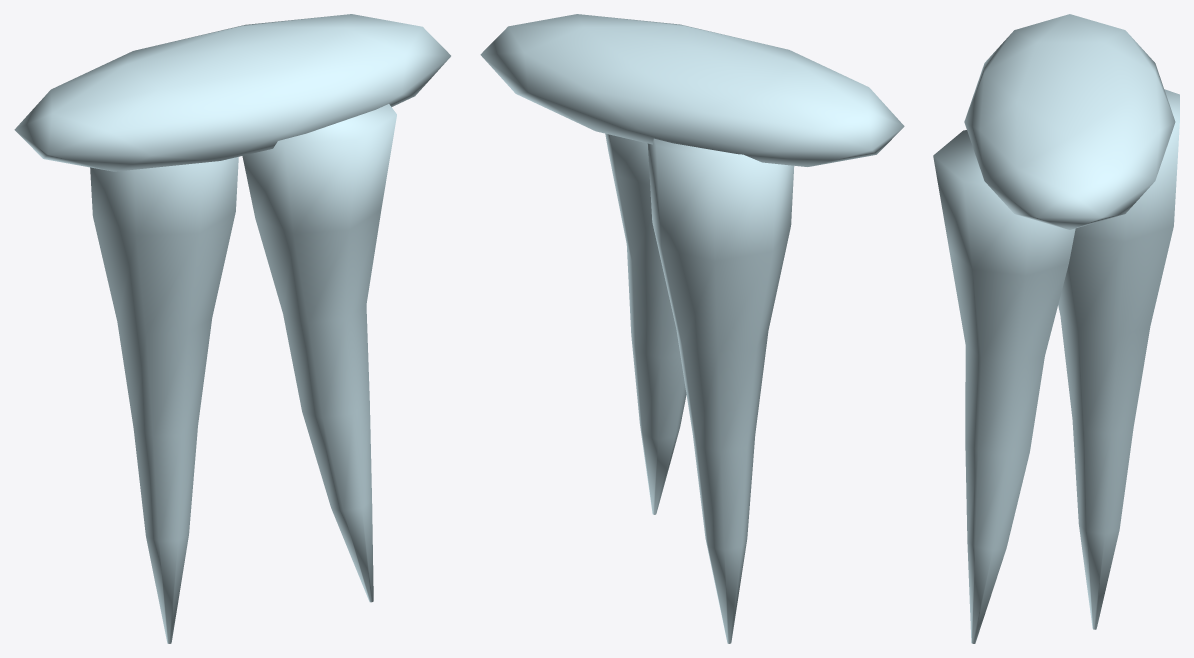
The model's file is icicles_c.glb.
3 views of the same model, side by side, from view 1: azimuth 30°, elevation 25°; view 2: azimuth 150°, elevation 25°; view 3: azimuth 270°, elevation 25° (orthographic). The views are drawn at different scales.
Visible parts, largest first — view 1: Icicles; view 2: Icicles; view 3: Icicles.
Boxes of the visible parts, <box> form: Icicles: <box>14,14,450,643</box>; Icicles: <box>480,14,904,643</box>; Icicles: <box>933,14,1179,643</box>.
Size of the model in its own units: 0.856 by 1.2 by 0.4672.
